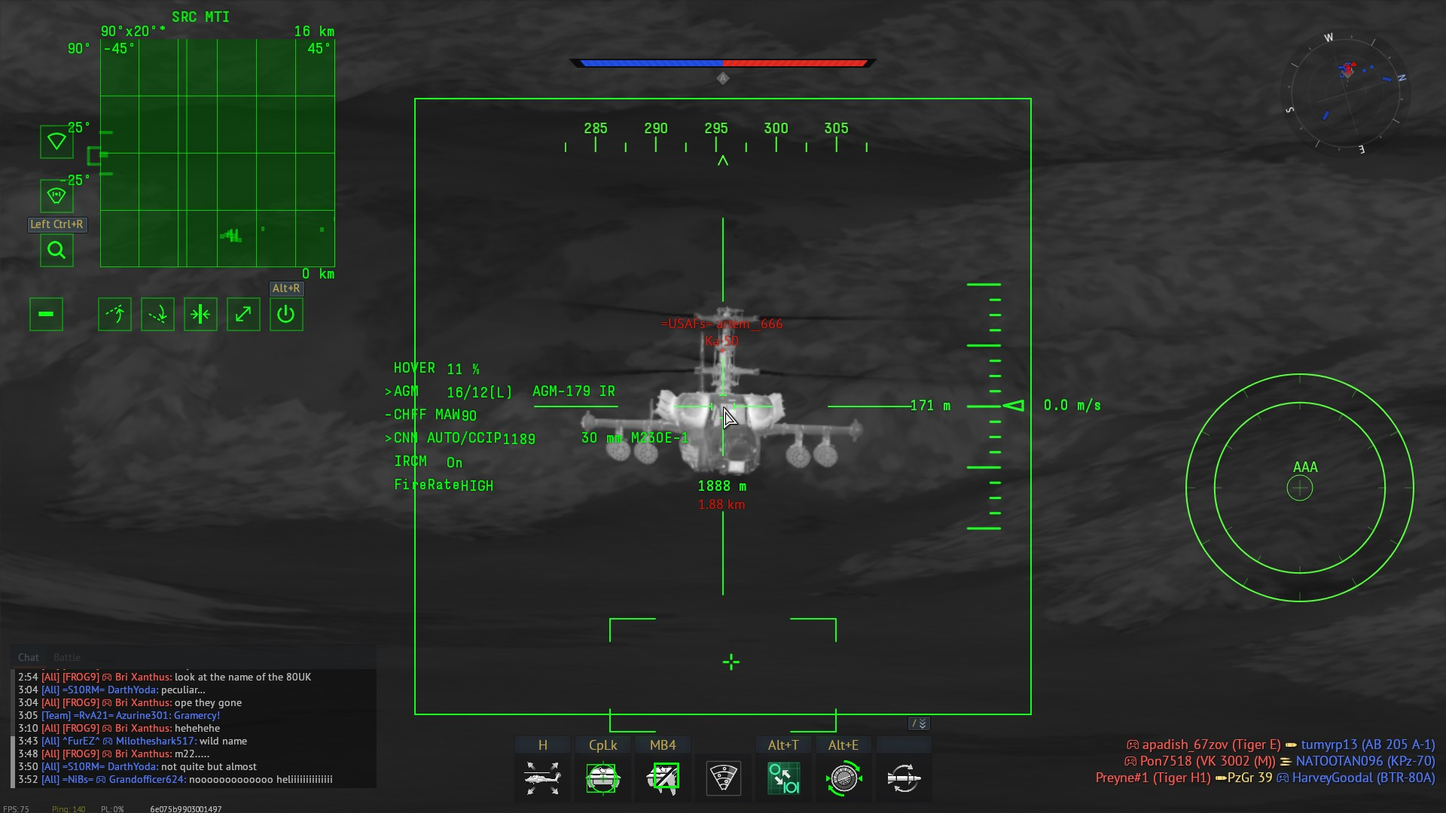ka50: (574, 307, 866, 477)
